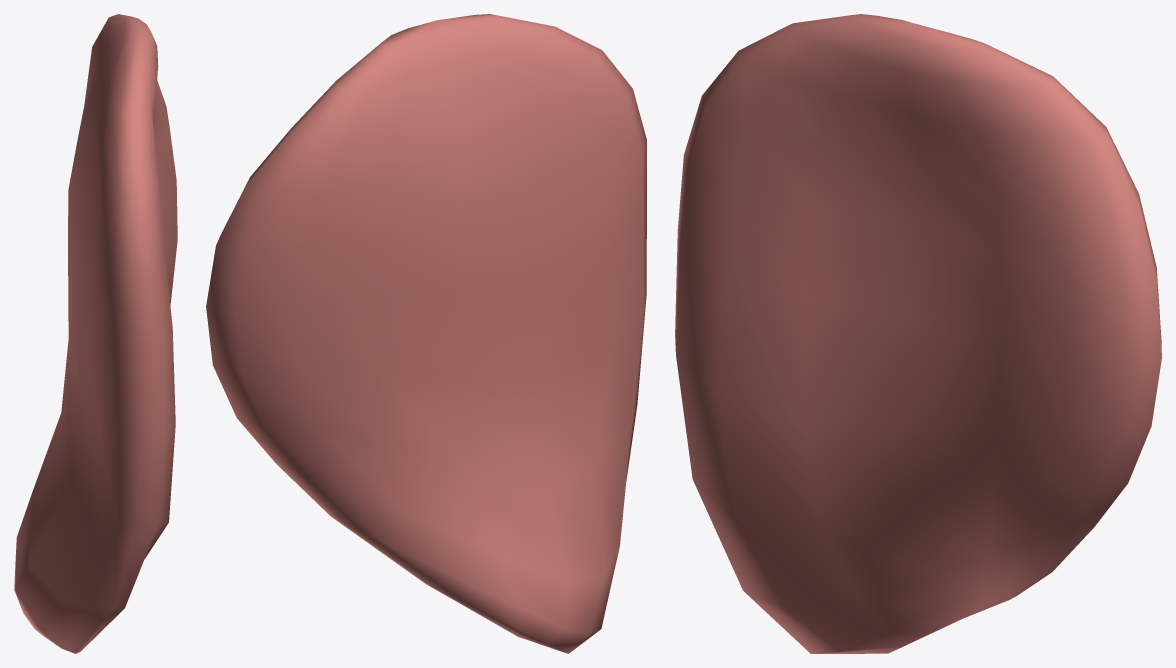
3 views of the same model, side by side, from view 1: azimuth 30°, elevation 25°; view 2: azimuth 150°, elevation 25°; view 3: azimuth 270°, elevation 25° (orthographic). The views are drawn at different scales.
Visible parts, largest first — view 1: ZA_ab4ad1a641843db9; view 2: ZA_ab4ad1a641843db9; view 3: ZA_ab4ad1a641843db9.
Part boxes in pixels (x1,y1,x2,y2): ZA_ab4ad1a641843db9: [14, 14, 177, 653]; ZA_ab4ad1a641843db9: [206, 14, 646, 653]; ZA_ab4ad1a641843db9: [675, 14, 1161, 653].
Size of the model in its own units: 0.00929 by 0.0208 by 0.0132.
